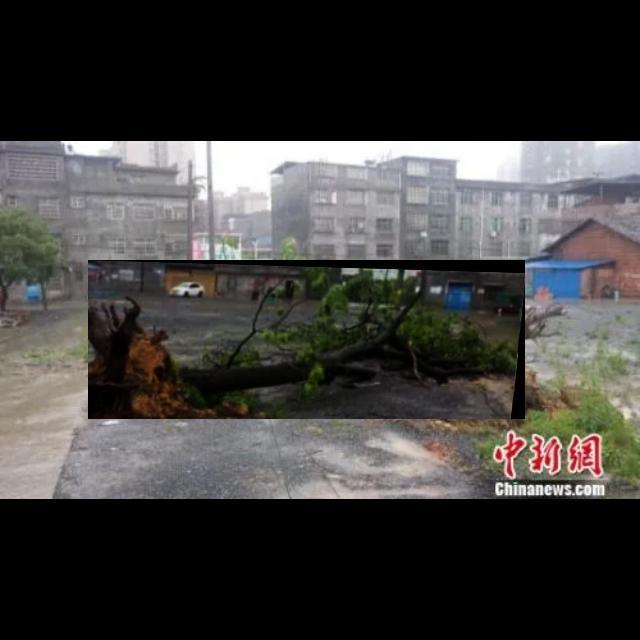fallen_tree: (88, 260, 526, 420)
